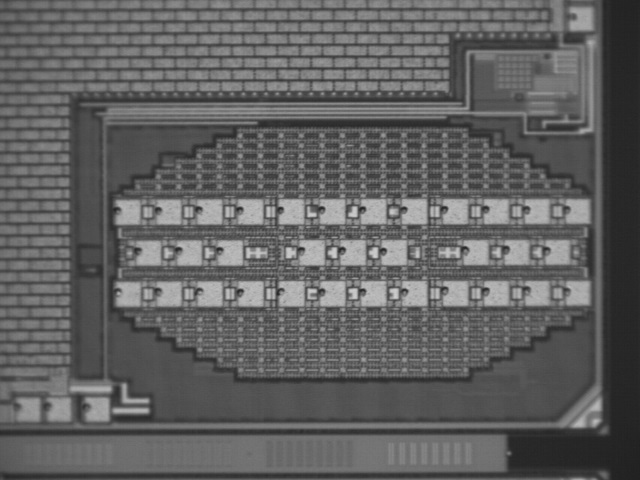shift: (212, 240, 246, 268), (172, 239, 206, 267), (129, 240, 163, 268), (109, 280, 143, 308), (151, 280, 185, 308), (191, 279, 225, 307), (233, 280, 267, 308), (273, 279, 307, 307), (314, 279, 348, 307), (354, 280, 388, 308), (396, 279, 430, 307), (437, 279, 471, 307), (479, 279, 513, 307), (520, 278, 554, 306), (562, 279, 596, 307), (79, 394, 113, 422), (42, 395, 76, 423), (11, 395, 45, 423), (110, 199, 141, 227), (566, 4, 597, 32), (153, 198, 184, 226), (193, 197, 224, 225), (234, 197, 265, 225), (275, 196, 306, 224), (317, 197, 348, 225), (356, 196, 387, 224), (398, 196, 429, 224), (439, 196, 470, 224), (479, 196, 510, 224), (520, 195, 551, 223), (560, 195, 591, 223), (541, 238, 572, 266), (500, 237, 531, 265), (459, 236, 490, 264), (379, 238, 410, 266), (336, 239, 367, 267), (295, 237, 326, 265)
